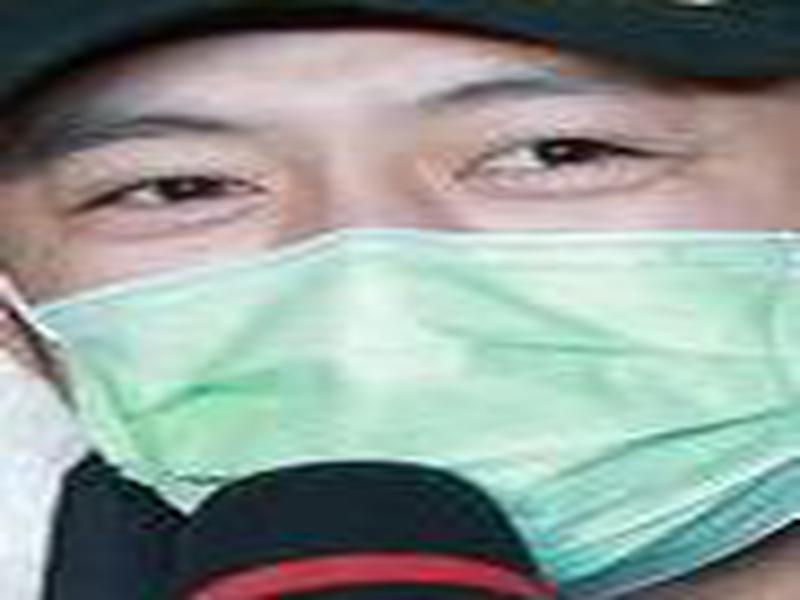with_mask: (1, 34, 797, 596)
